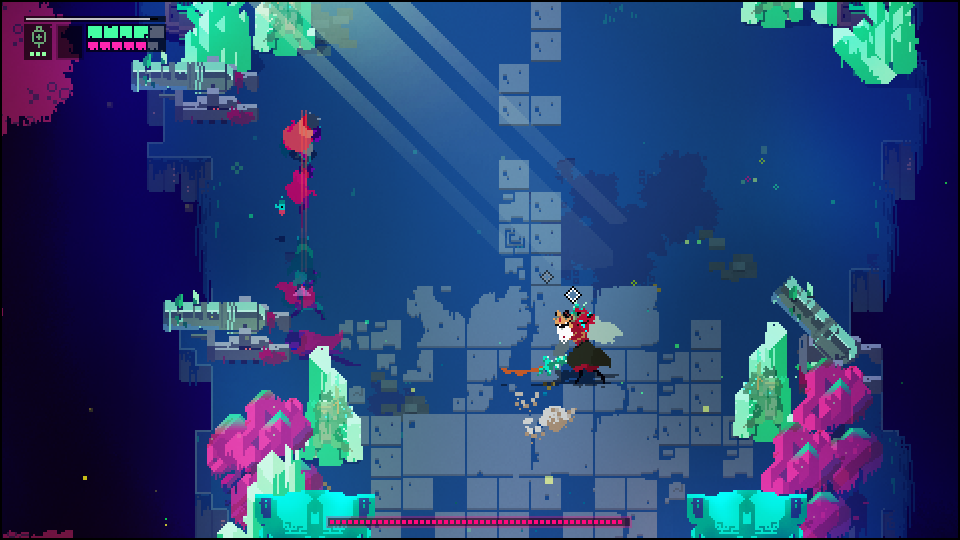hanged_man: (525, 294, 622, 381)
player: (281, 108, 323, 169)
